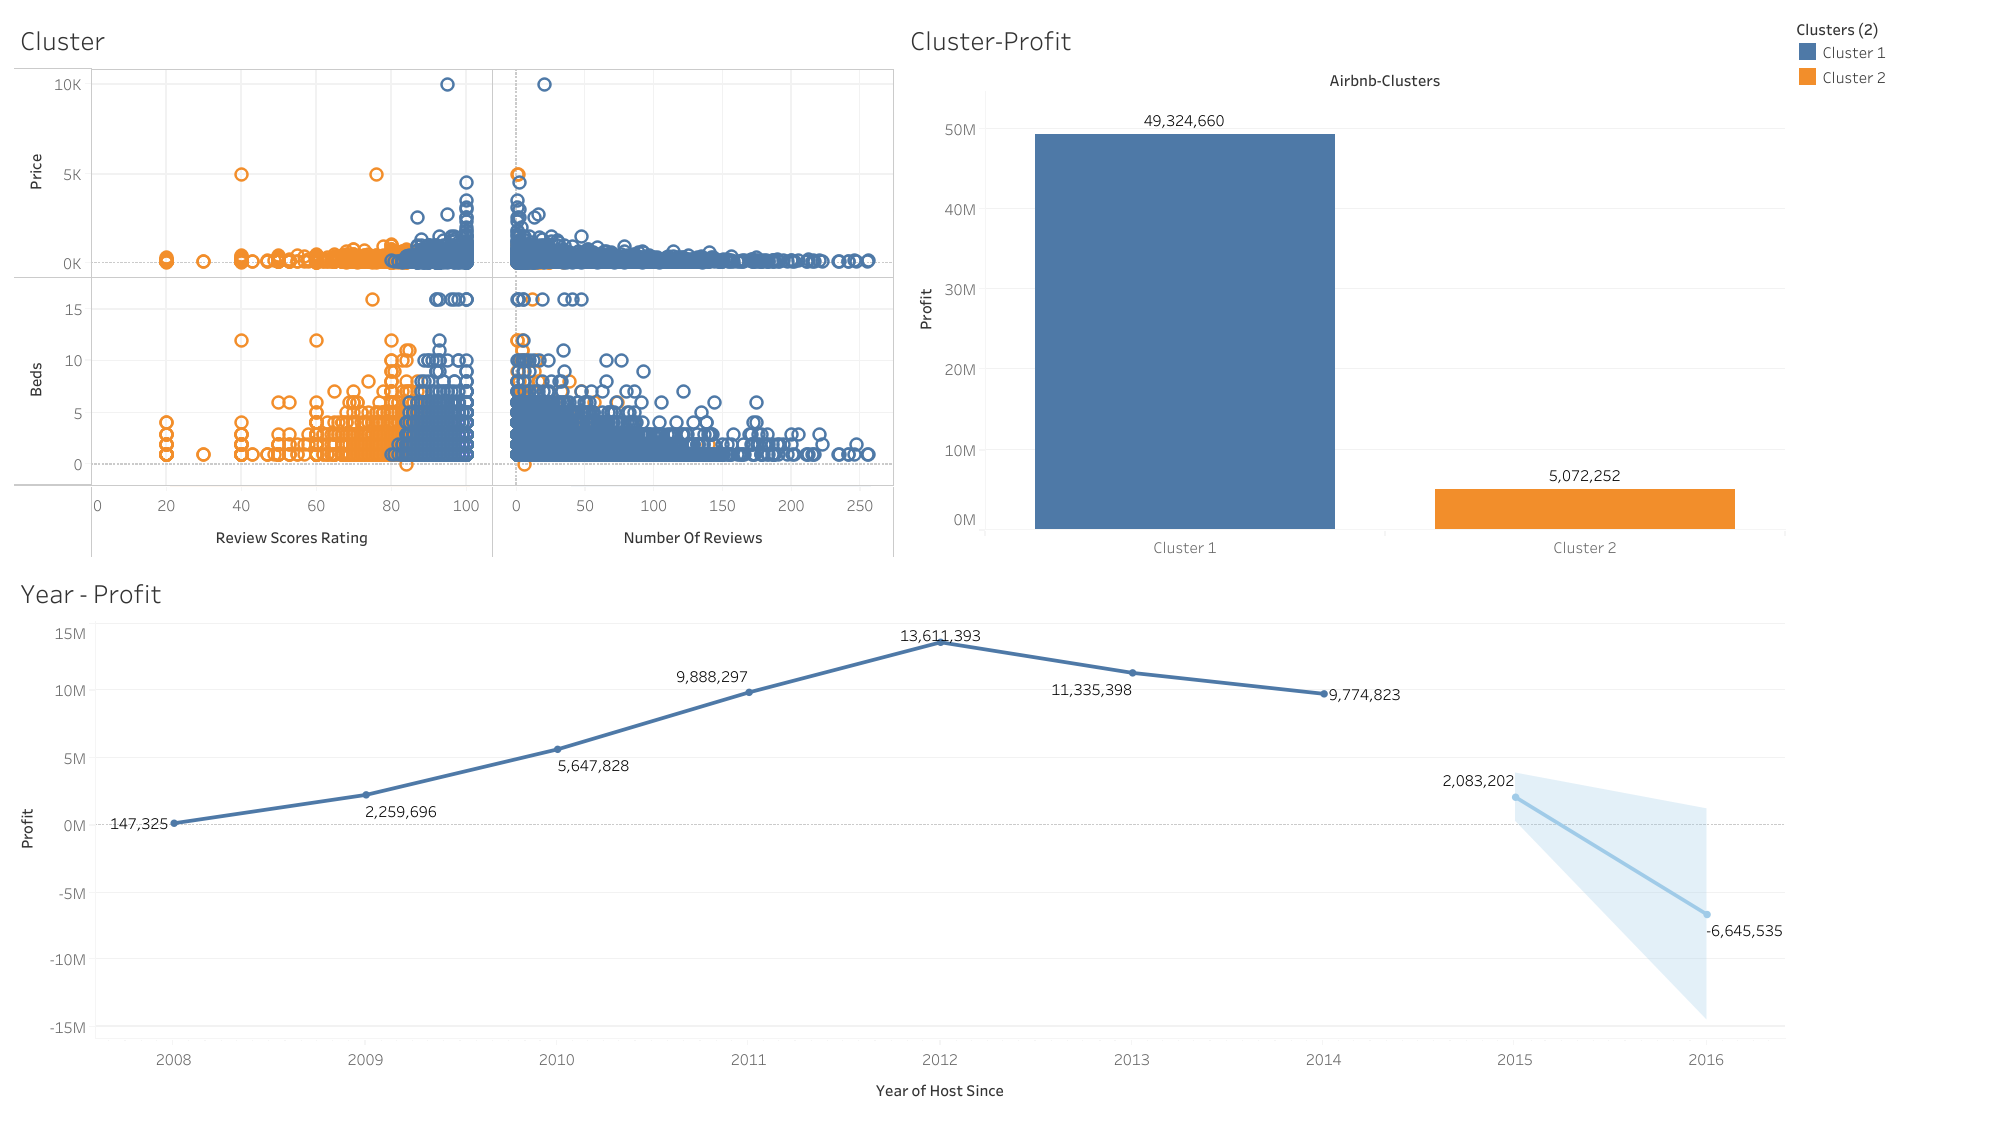

The dashboard page shown, as its layout file describes it:
{"tool":"tableau","page":{"name":"MED Beds - Cluster-Profit","canvas":[1600,900],"ordinal":0},"visuals":[{"type":"worksheet","title":"Cluster","mark":"Automatic","rows":["Price","Beds"],"cols":["Review Scores Rating","Number Of Reviews"],"box":[8,8,712,442]},{"type":"worksheet","title":"Cluster-Profit","mark":"Automatic","rows":["Calculation_667095754605002752"],"box":[720,8,712,442]},{"type":"legend","title":"Cluster","param":"[federated.0j0w5ul0jr4dh91d4lxyd0nrqbqj].[none:AdhocCluster:3:ok]","box":[1432,8,160,72]},{"type":"worksheet","title":"Year - Profit","mark":"Automatic","rows":["Calculation_667095754605002752"],"cols":["Host Since"],"box":[8,450,1424,442]}]}

Visuals, with their boxes in screenshot pixels (x1, y1, x2, y2), scaled from the page's 1600x900 canvas onto the 1999x1124 screenshot:
"Cluster" worksheet: Rect(10, 10, 900, 562)
"Cluster-Profit" worksheet: Rect(900, 10, 1789, 562)
"Cluster" legend: Rect(1789, 10, 1989, 100)
"Year - Profit" worksheet: Rect(10, 562, 1789, 1114)
